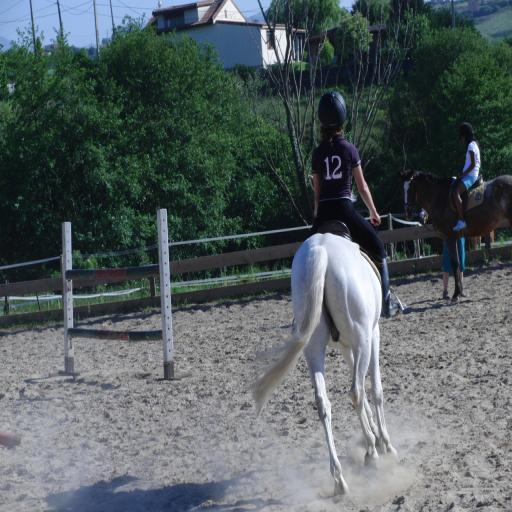horse: (243, 188, 400, 498), (398, 168, 512, 302)
